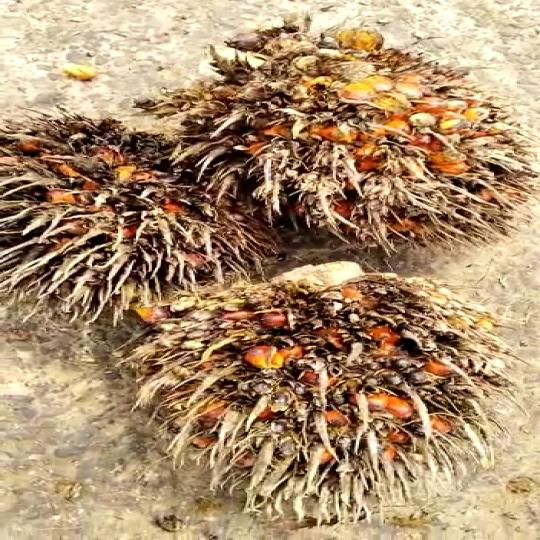terlalu masak: (138, 268, 504, 490), (151, 32, 540, 240), (0, 103, 275, 307)
